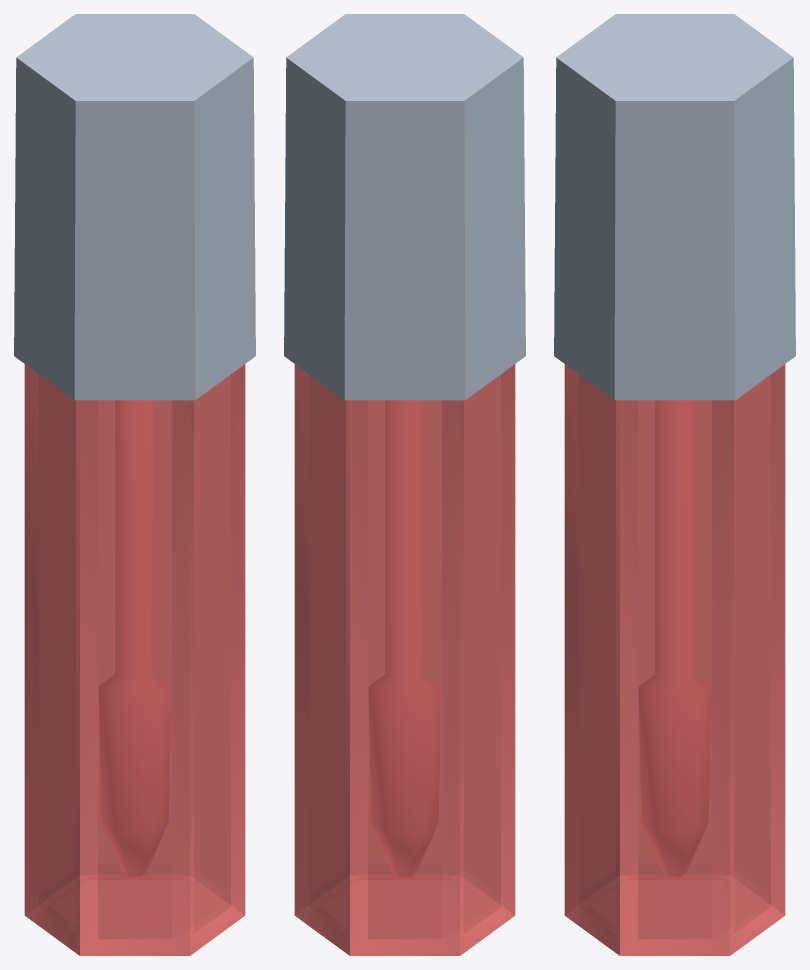
File: bottle_lip_gloss_bottle.fbx
3 views of the same model, side by side, from view 1: azimuth 30°, elevation 25°; view 2: azimuth 150°, elevation 25°; view 3: azimuth 270°, elevation 25° (orthographic).
Parts seen in each view (by area): view 1: bottle_lip_gloss_bottle.001, bottle_lip_gloss.001; view 2: bottle_lip_gloss_bottle.001, bottle_lip_gloss.001; view 3: bottle_lip_gloss_bottle.001, bottle_lip_gloss.001.
Part boxes in pixels (x1,y1,x2,y2): bottle_lip_gloss_bottle.001: [24, 364, 245, 955]; bottle_lip_gloss.001: [14, 14, 255, 876]; bottle_lip_gloss_bottle.001: [294, 364, 515, 955]; bottle_lip_gloss.001: [284, 14, 525, 876]; bottle_lip_gloss_bottle.001: [564, 364, 785, 955]; bottle_lip_gloss.001: [554, 14, 795, 876].
Bounding box in the file's own units: 353 × 1597 × 408.
Materials: 2 (2 with a texture image).
